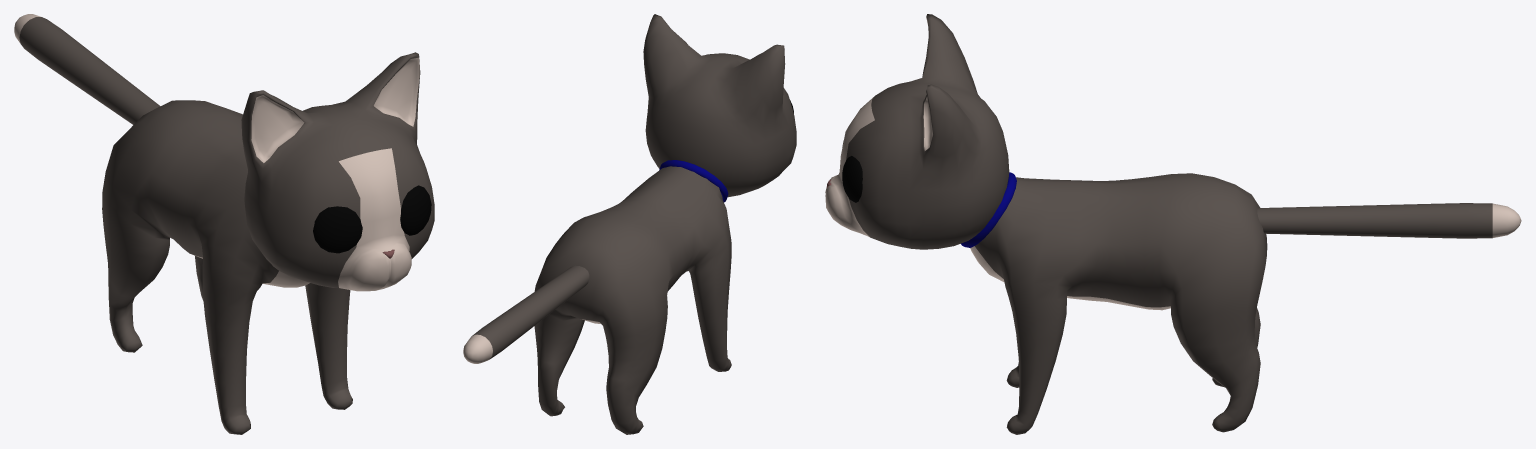
File: cat_puppet.glb
3 views of the same model, side by side, from view 1: azimuth 30°, elevation 25°; view 2: azimuth 150°, elevation 25°; view 3: azimuth 270°, elevation 25° (orthographic). The views are drawn at different scales.
Parts seen in each view (by area): view 1: bodymesh, Reye, Leye; view 2: bodymesh, collar; view 3: bodymesh, Leye, collar.
Part boxes in pixels (x1=…): bodymesh: x1=14, y1=14, x2=434, y2=434; Reye: x1=313, y1=206, x2=362, y2=253; Leye: x1=400, y1=185, x2=431, y2=235; bodymesh: x1=463, y1=14, x2=796, y2=434; collar: x1=659, y1=160, x2=728, y2=202; bodymesh: x1=825, y1=14, x2=1521, y2=434; Leye: x1=842, y1=156, x2=862, y2=202; collar: x1=961, y1=172, x2=1016, y2=247.
Size of the model in its own units: 0.0389 by 0.0834 by 0.1469.
